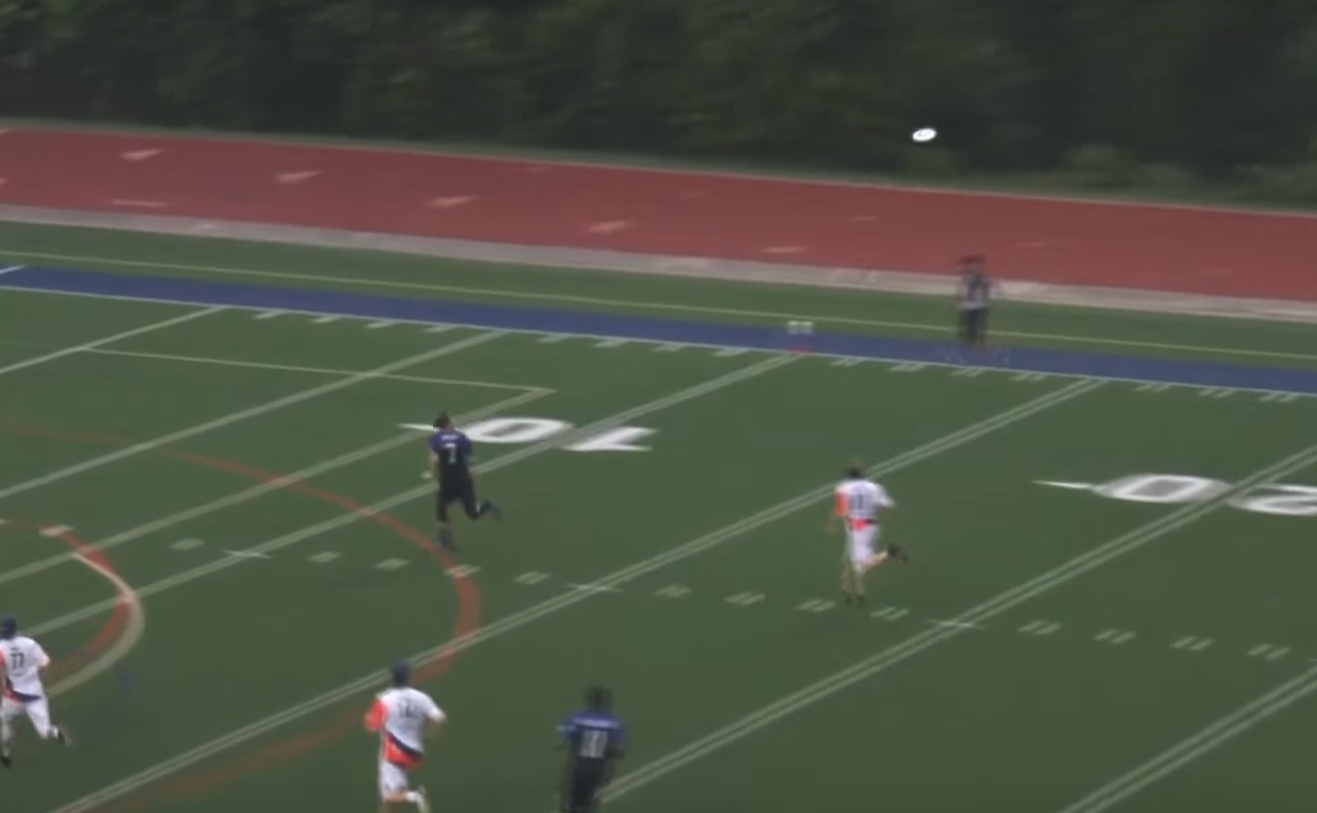frisbee: (911, 125, 937, 142)
